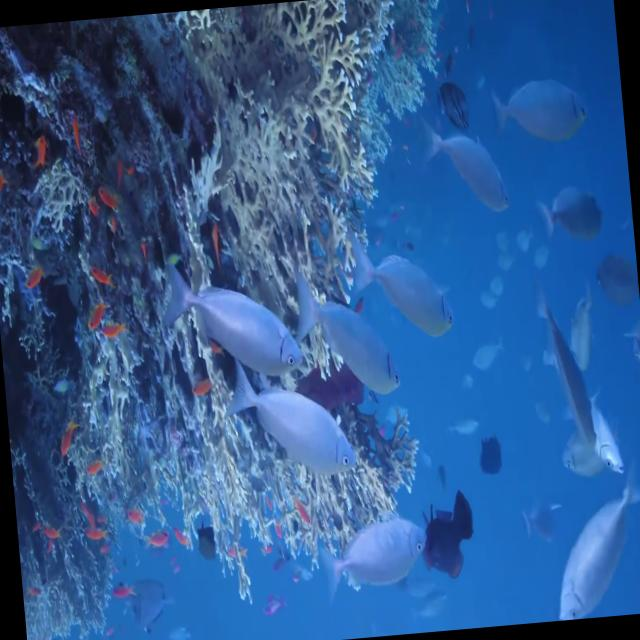fish: (160, 246, 306, 390), (538, 284, 627, 490), (228, 371, 363, 484), (546, 462, 640, 620), (303, 276, 407, 404), (349, 218, 459, 339), (317, 515, 429, 606), (488, 62, 591, 154), (432, 110, 511, 215), (418, 484, 477, 583), (532, 186, 609, 256)
